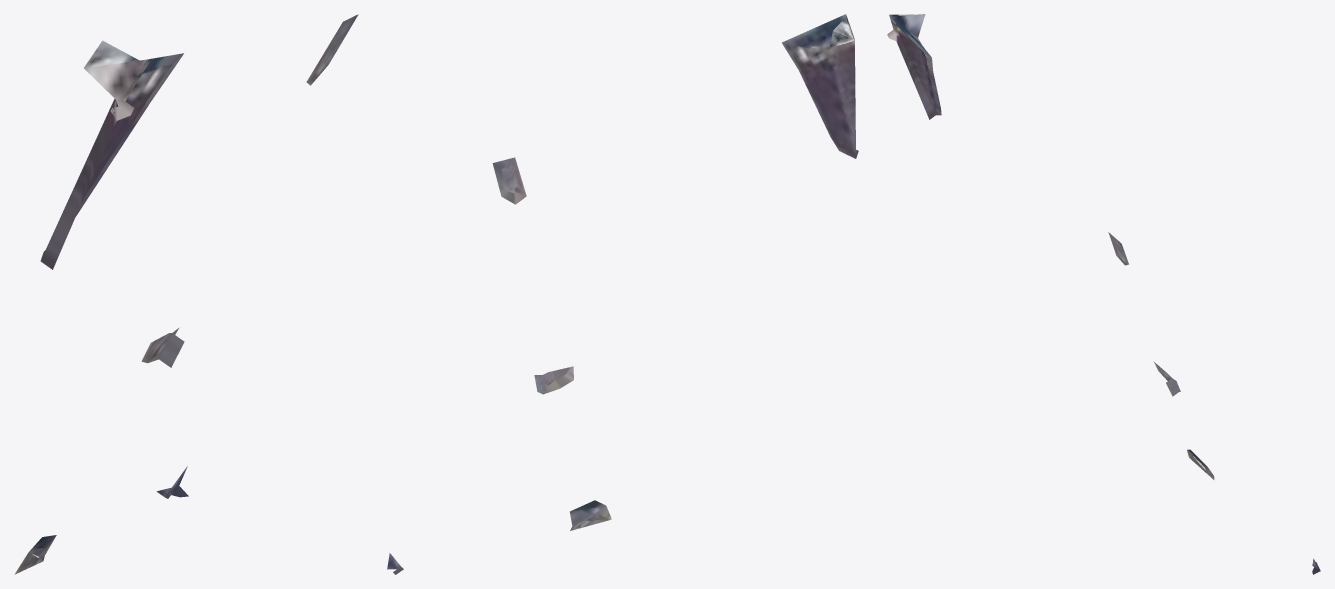
3 renders of one model, left to right at view 1: azimuth 30°, elevation 25°; view 2: azimuth 150°, elevation 25°; view 3: azimuth 270°, elevation 25°, orthographic. The views are drawn at different scales.
Bounding box in the file's own units: 69.55 × 111 × 97.31.
Materials: 1 (1 with a texture image).
